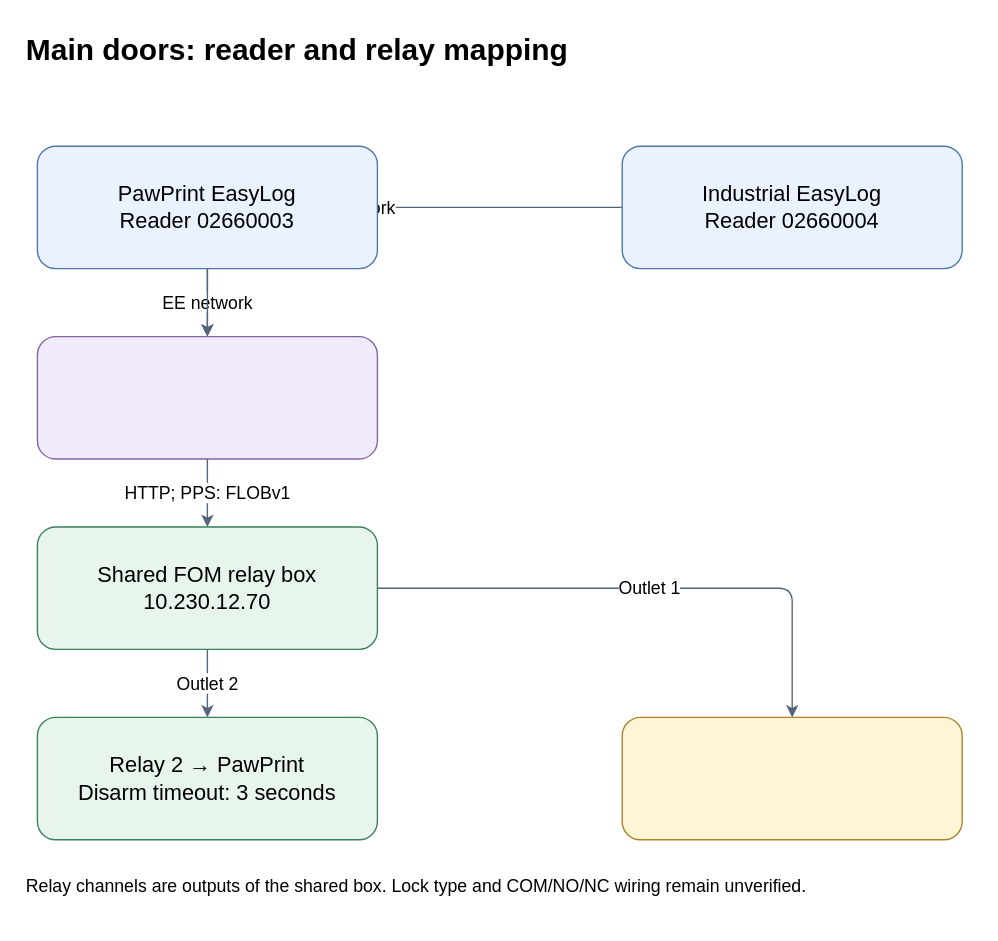
Image size: 998x941. Some labels were removed from this diagram. Here are the shapes that lost their labels. From the top down, the centre of each, then its label:
the point at 206,397: FOM server Resource-specific configuration
the point at 791,778: Relay 1 → Industrial Timeout: to confirm
